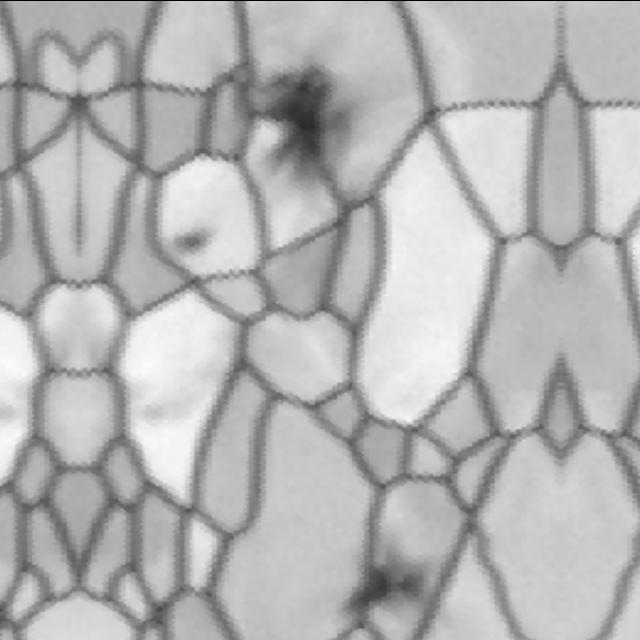good_void: (235, 47, 364, 197), (339, 534, 442, 635), (149, 359, 221, 430), (171, 225, 223, 263)
